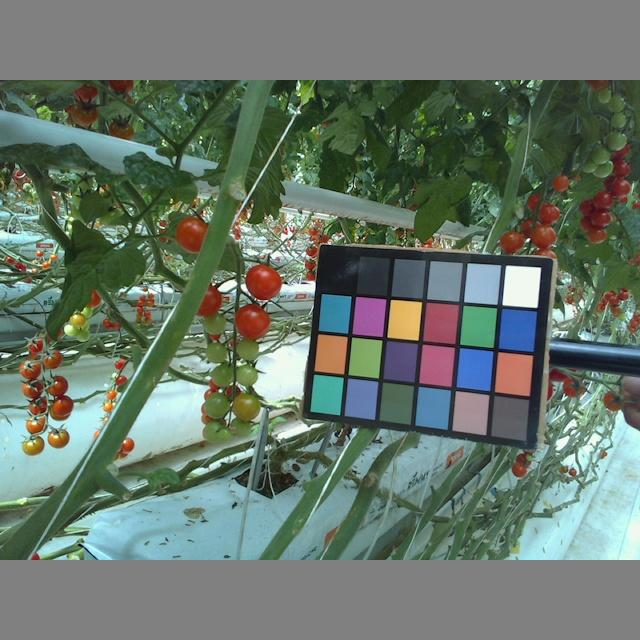green: (229, 391, 259, 422), (202, 391, 230, 419), (233, 336, 261, 361), (208, 364, 236, 388), (201, 418, 226, 443), (235, 362, 259, 388), (202, 312, 226, 337), (203, 341, 228, 365)
pink: (500, 230, 528, 254), (532, 224, 557, 250), (535, 201, 563, 224), (51, 394, 76, 418), (46, 427, 72, 450), (45, 374, 69, 397), (39, 348, 62, 370), (24, 415, 49, 435), (18, 359, 41, 380), (21, 437, 45, 457), (22, 378, 43, 399), (25, 399, 48, 417)
red: (173, 216, 213, 256), (233, 304, 272, 341), (244, 261, 281, 299)
